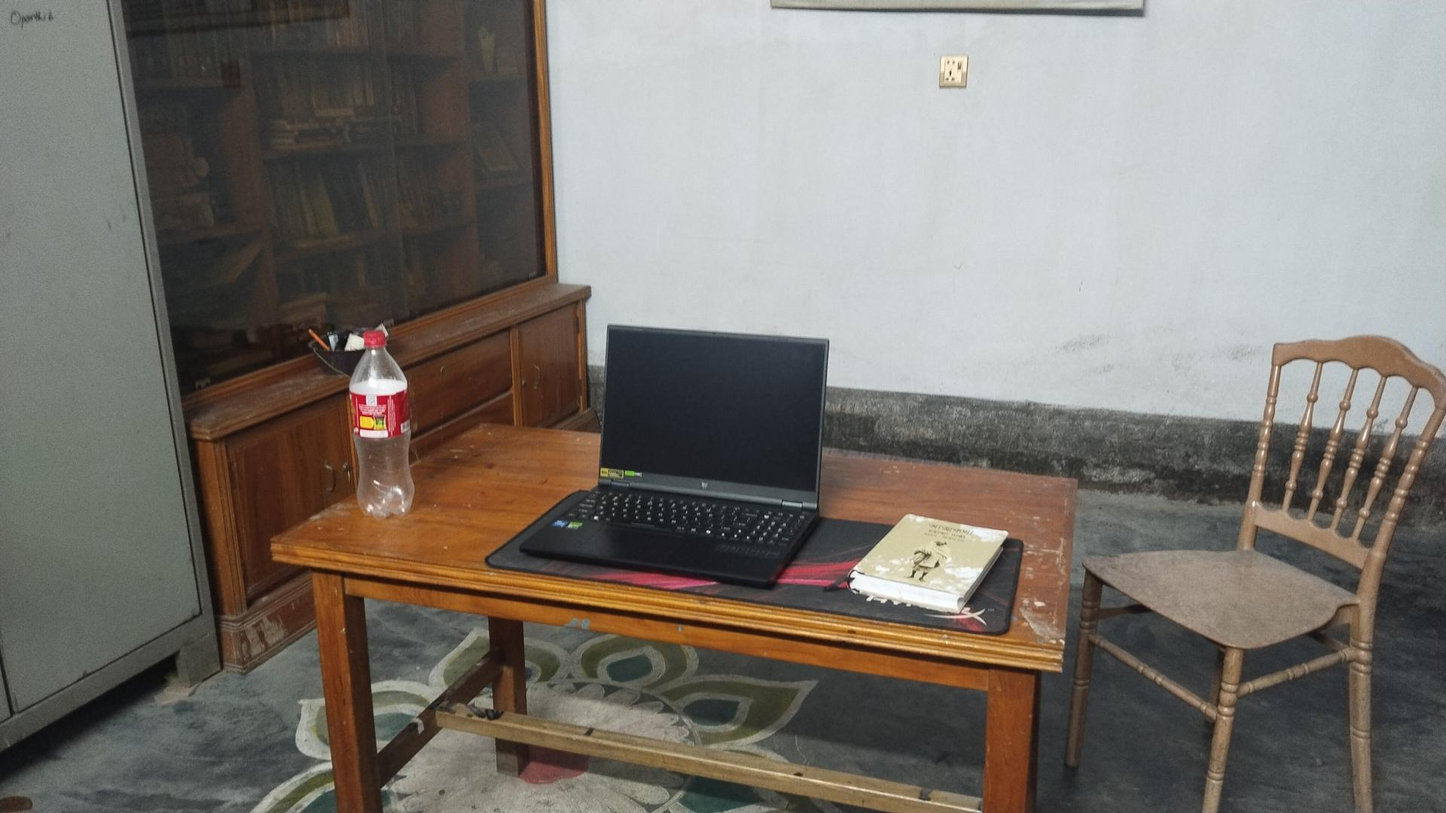Book: (856, 513, 1009, 606)
Bottle: (346, 332, 415, 509)
Chair: (1074, 342, 1446, 813)
Laptop: (522, 322, 834, 581)
Table: (267, 427, 1079, 811)
